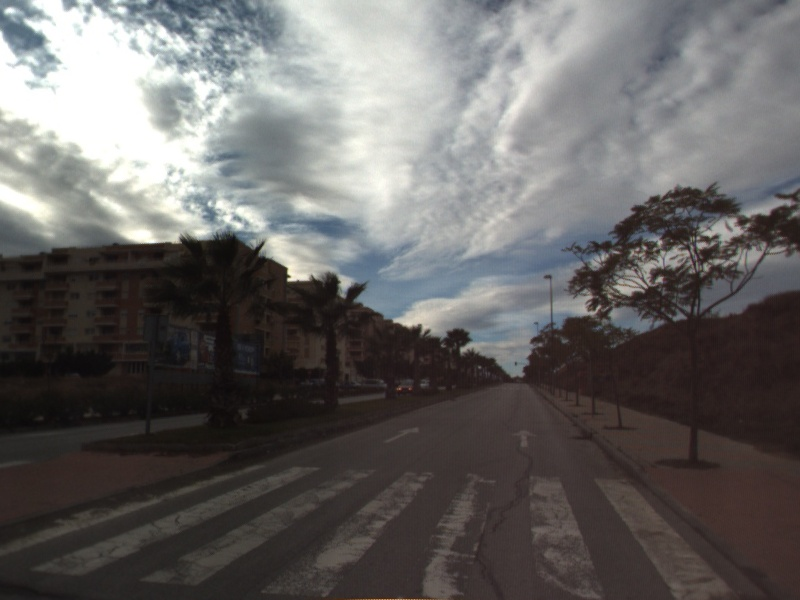STRAIGHT: (381, 424, 422, 445), (509, 428, 539, 449)
